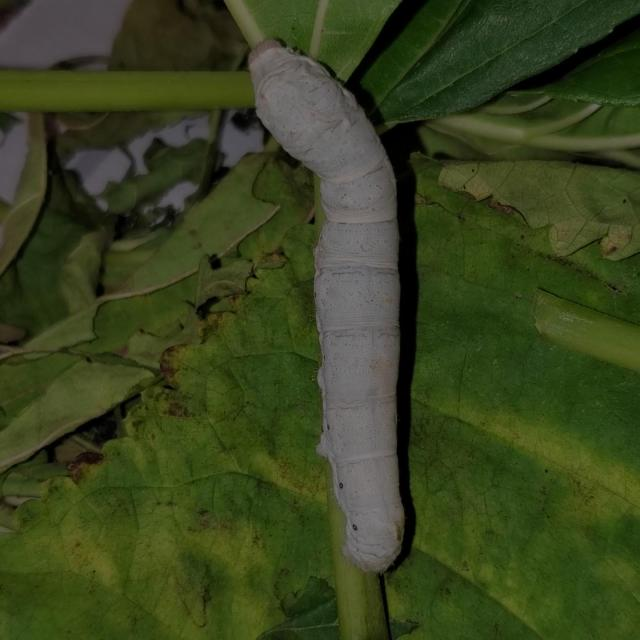Healthy: (236, 30, 427, 570)
